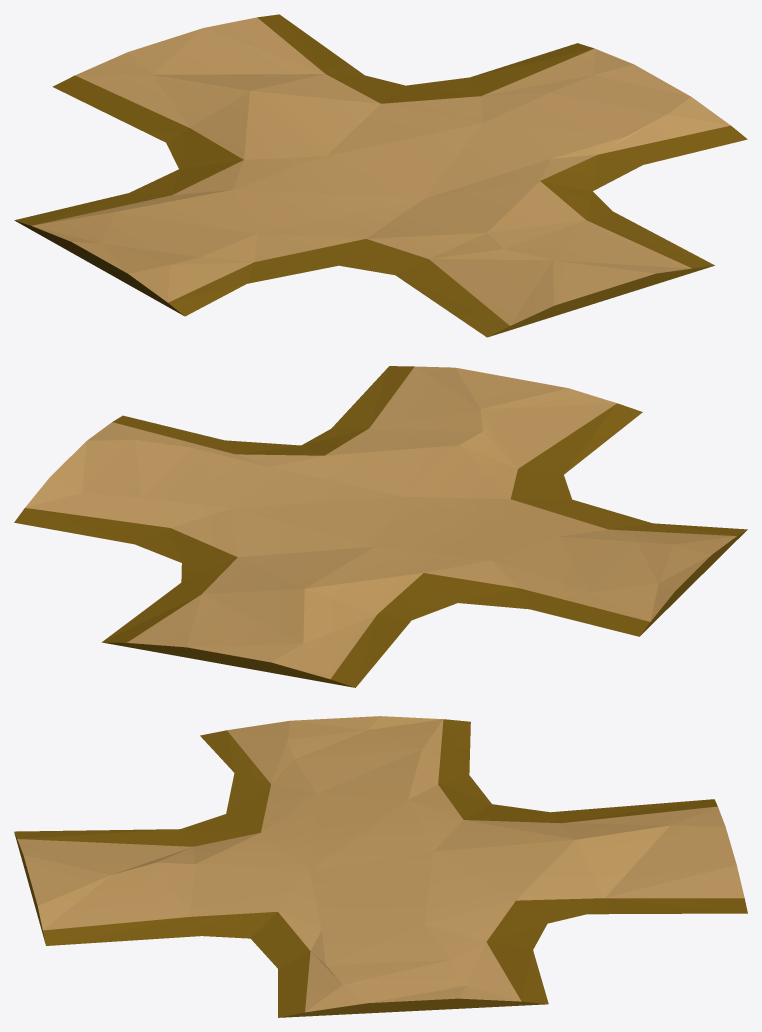
File: Road_Cross.gltf
3 renders of one model, top to bottom at view 1: azimuth 30°, elevation 25°; view 2: azimuth 150°, elevation 25°; view 3: azimuth 270°, elevation 25°, orthographic. The views are drawn at different scales.
Visible parts, largest first — view 1: Road_Cross; view 2: Road_Cross; view 3: Road_Cross.
Part boxes in pixels (x1,y1,x2,y2): Road_Cross: (14, 14, 747, 337); Road_Cross: (14, 366, 747, 687); Road_Cross: (14, 716, 747, 1017).
Bounding box in the file's own units: 7.7 × 0.2158 × 8.07.
Materials: 1 (1 with a texture image).
